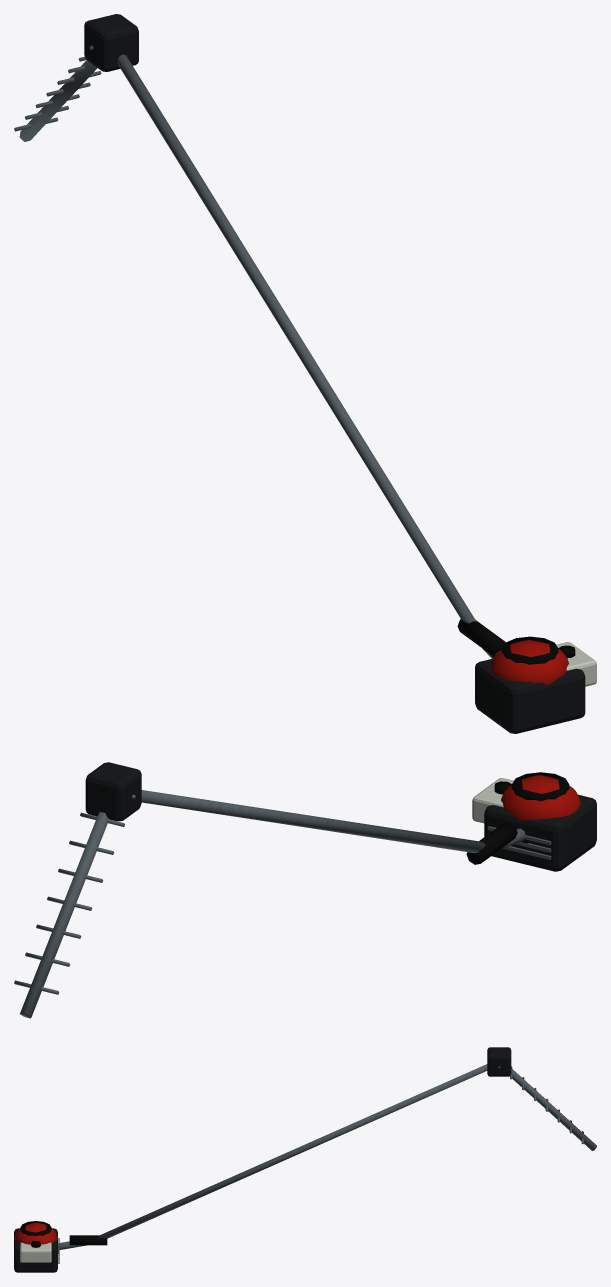
Rendered from ArticulatingHedgeTrimmer.gltf.
3 renders of one model, top to bottom at view 1: azimuth 30°, elevation 25°; view 2: azimuth 150°, elevation 25°; view 3: azimuth 270°, elevation 25°, orthographic. The views are drawn at different scales.
Visible parts, largest first — view 1: ArticulatingHedgeTrimmer__Body; view 2: ArticulatingHedgeTrimmer__Body; view 3: ArticulatingHedgeTrimmer__Body.
Boxes of the visible parts, x1,y1,x2,y2 form: ArticulatingHedgeTrimmer__Body: (14,14,596,733); ArticulatingHedgeTrimmer__Body: (14,762,596,1018); ArticulatingHedgeTrimmer__Body: (14,1047,596,1272).
Bounding box in the file's own units: 0.2193 × 0.875 × 2.17.
Materials: 1 (1 with a texture image).
